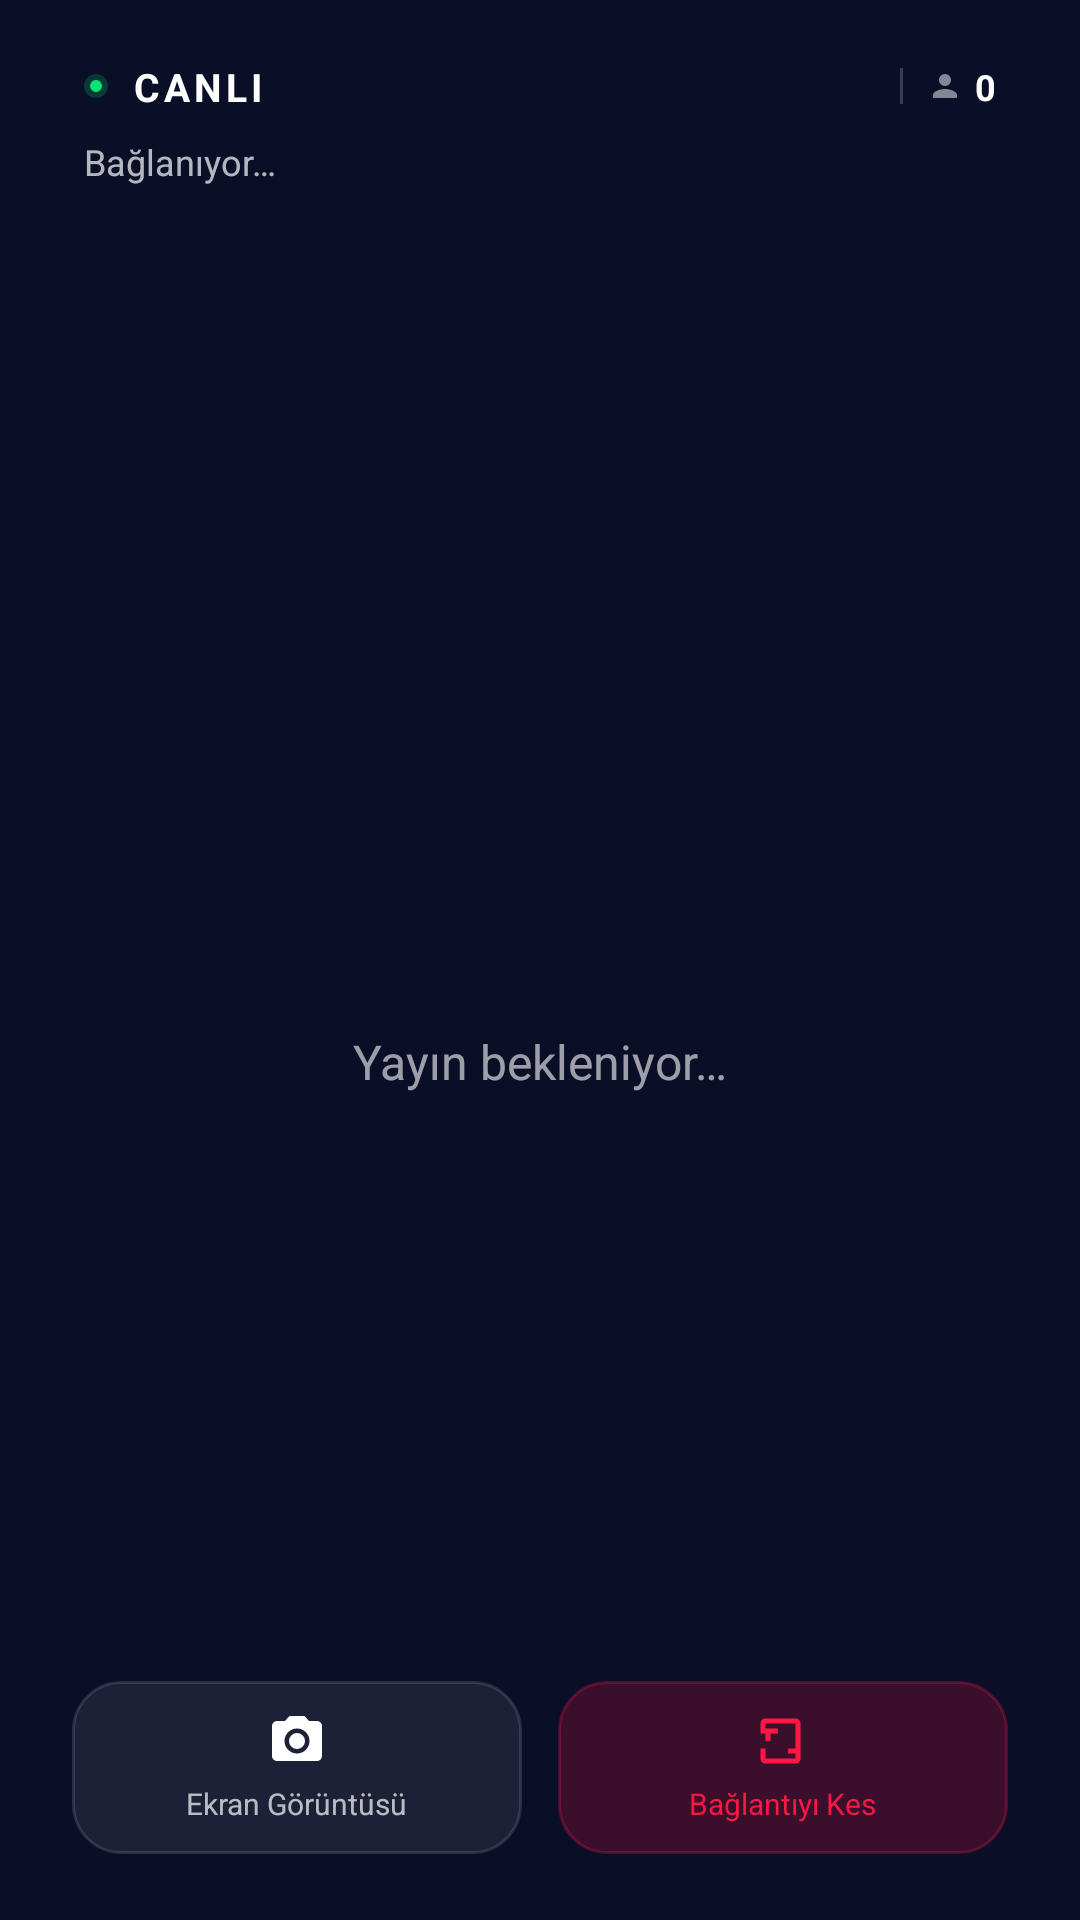

Icons on this 1080w x 1920h Android screen, each with its box as [x1=x1, y1=y1, x2=x2, y2=y2]:
camera: [x1=272, y1=1716, x2=322, y2=1761]
stop: [x1=760, y1=1718, x2=801, y2=1764]
viewer: [x1=933, y1=74, x2=957, y2=98]
